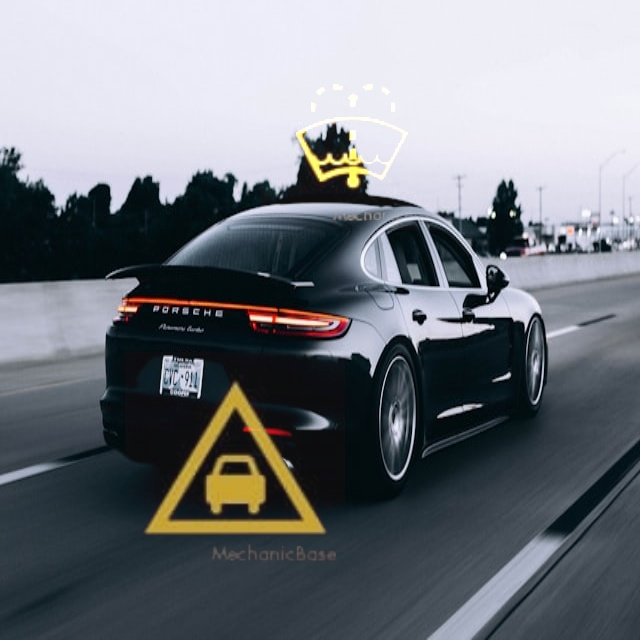symbol: (125, 352, 345, 572), (260, 44, 446, 230)
